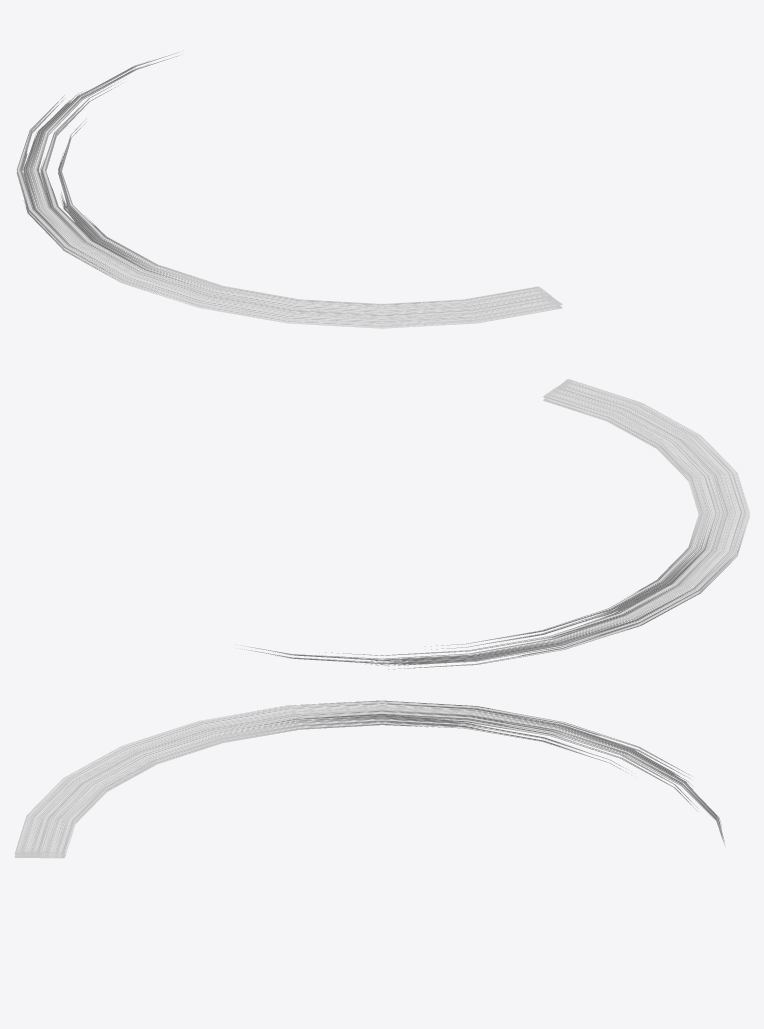
Rendered from SatelliteRing.fbx.
3 views of the same model, one above another, from view 1: azimuth 30°, elevation 25°; view 2: azimuth 150°, elevation 25°; view 3: azimuth 270°, elevation 25° (orthographic).
Parts seen in each view (by area): view 1: polymsh; view 2: polymsh; view 3: polymsh.
Part boxes in pixels (x1=…): polymsh: x1=16, y1=52, x2=562, y2=328; polymsh: x1=236, y1=379, x2=749, y2=669; polymsh: x1=14, y1=700, x2=725, y2=858.
Bounding box in the file's own units: 200 × 1 × 200.
